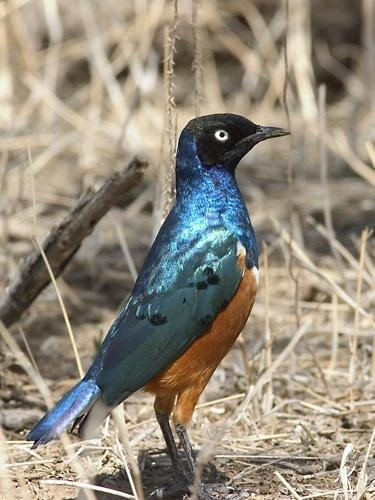bird: (26, 111, 294, 498)
